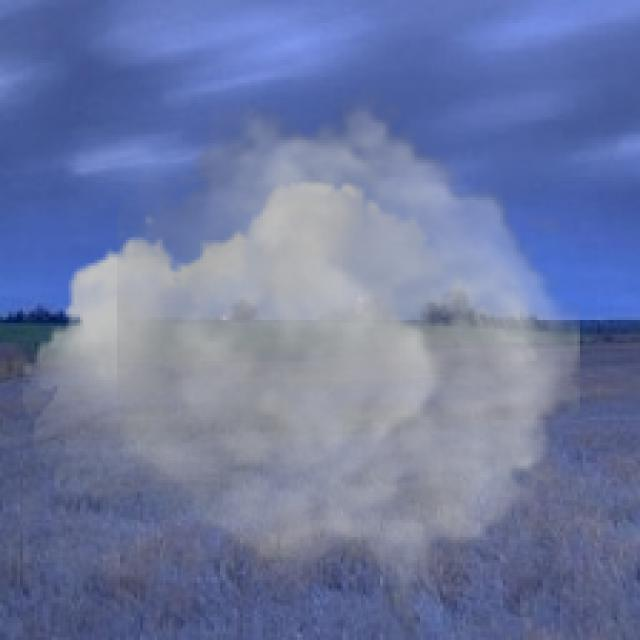Smoke: (23, 86, 580, 603)
